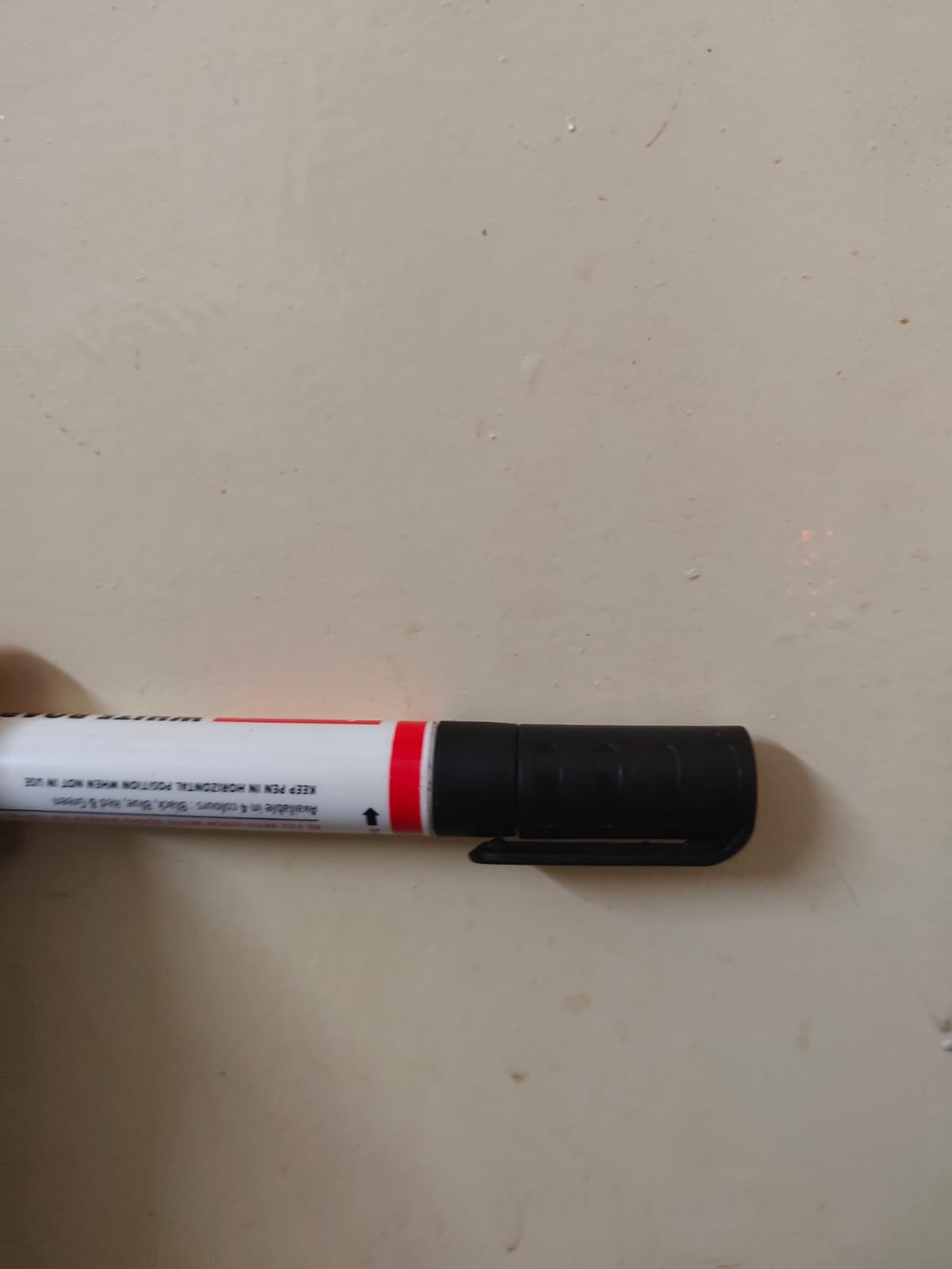case: (17, 698, 782, 878)
